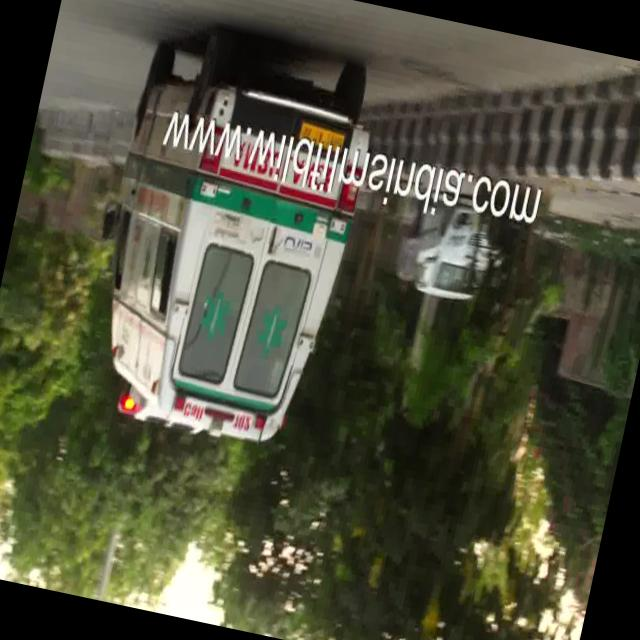ambulance: (69, 155, 348, 462)
